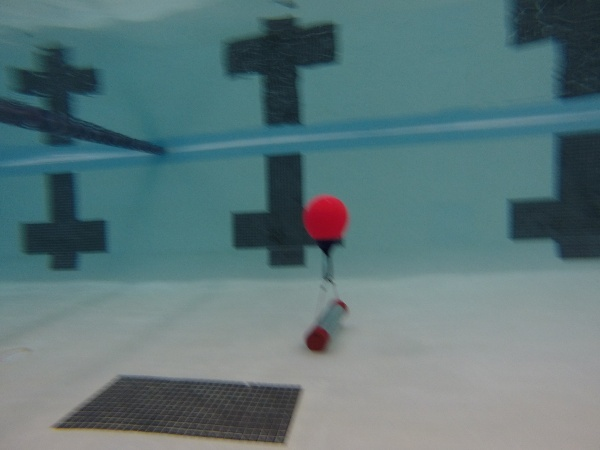buoy_red: (302, 195, 348, 254)
